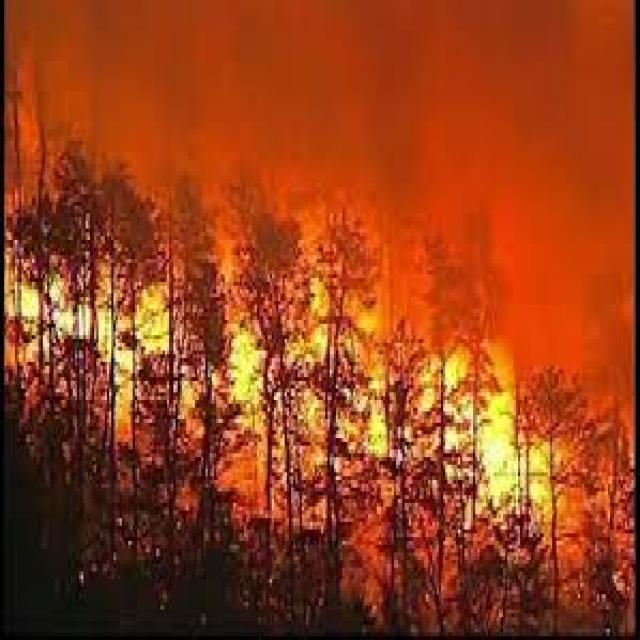Fire: (2, 188, 414, 448), (413, 352, 638, 546)
Smoke: (439, 0, 640, 290), (154, 0, 440, 175)
